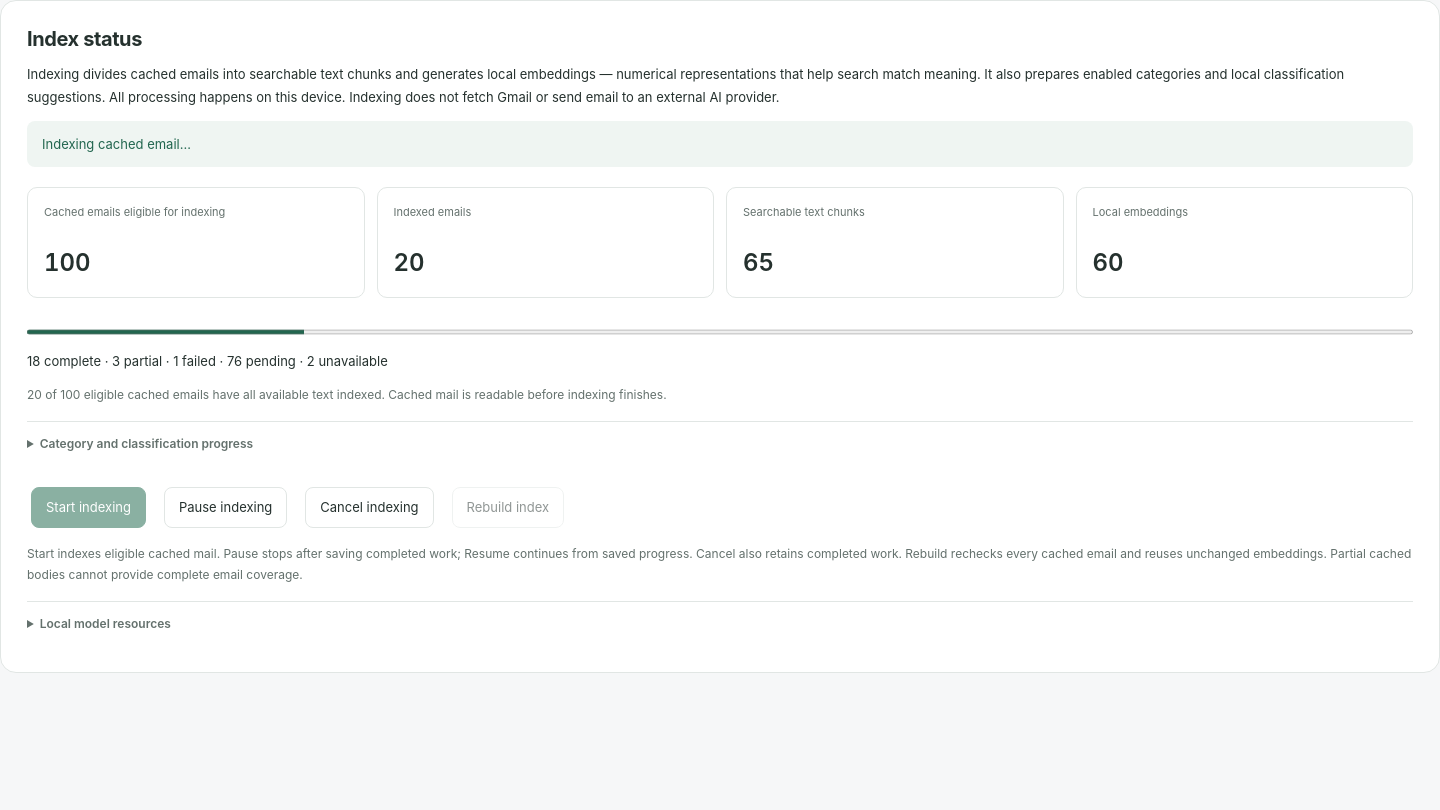
Test: Local Email Index › rejects a stale poll that arrives after a pause
This screenshot has width=1440, height=810.
What coordinates should you click on to do the following:
click the button "Pause indexing"
I would click on:
 (226, 508)
Its box is [164,487,287,528].
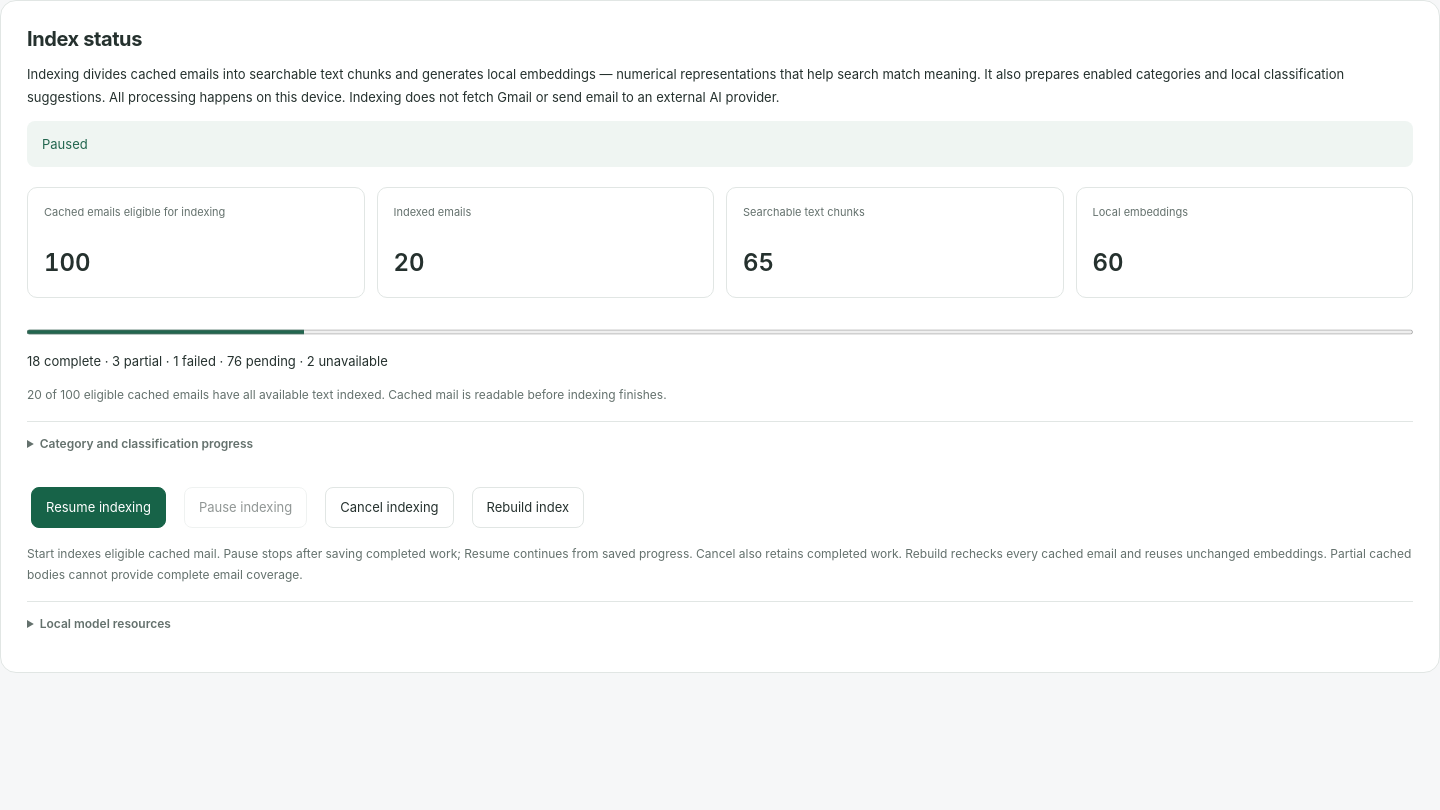
Check: the text "Paused" is shown, box [27,120,1413,167]
